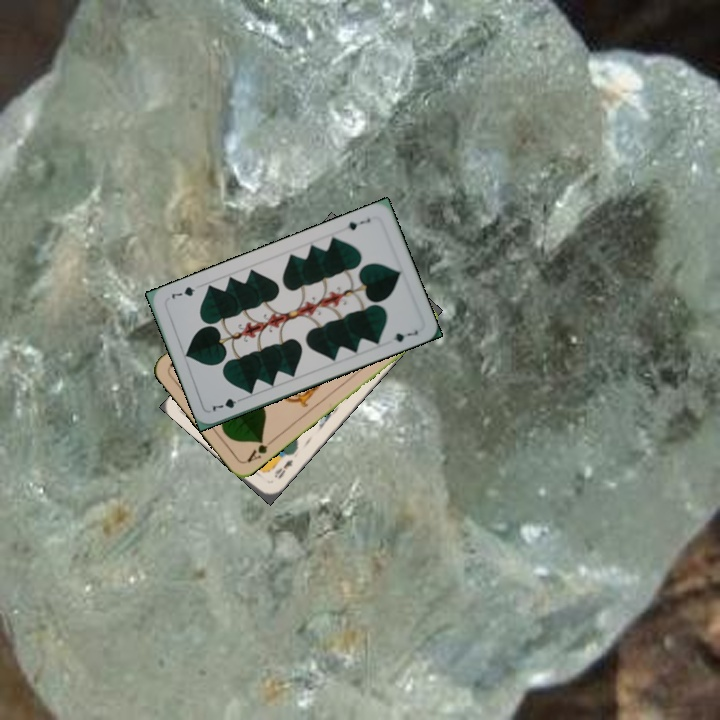EO: (270, 456, 295, 481)
G7: (208, 394, 247, 414), (343, 214, 373, 233)
GA: (243, 435, 277, 465)
